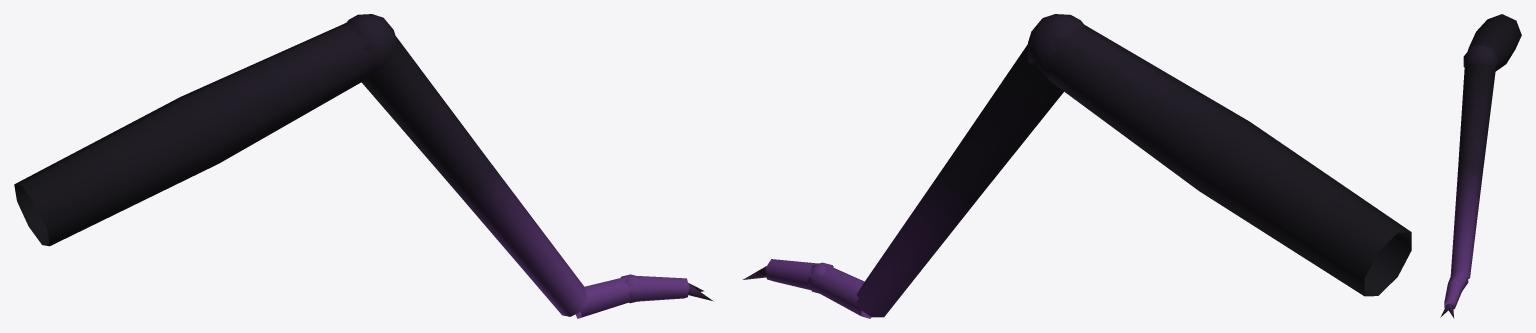
File: Maimaikaburi_Leg2.fbx
3 renders of one model, left to right at view 1: azimuth 30°, elevation 25°; view 2: azimuth 150°, elevation 25°; view 3: azimuth 270°, elevation 25°, orthographic. The views are drawn at different scales.
Visible parts, largest first — view 1: Maimaikaburi_Leg2; view 2: Maimaikaburi_Leg2; view 3: Maimaikaburi_Leg2.
Part boxes in pixels (x1,y1,x2,y2): Maimaikaburi_Leg2: (14, 14, 713, 318); Maimaikaburi_Leg2: (743, 14, 1411, 318); Maimaikaburi_Leg2: (1440, 14, 1521, 318).
Bounding box in the file's own units: 0.5052 × 0.2534 × 0.0995.
